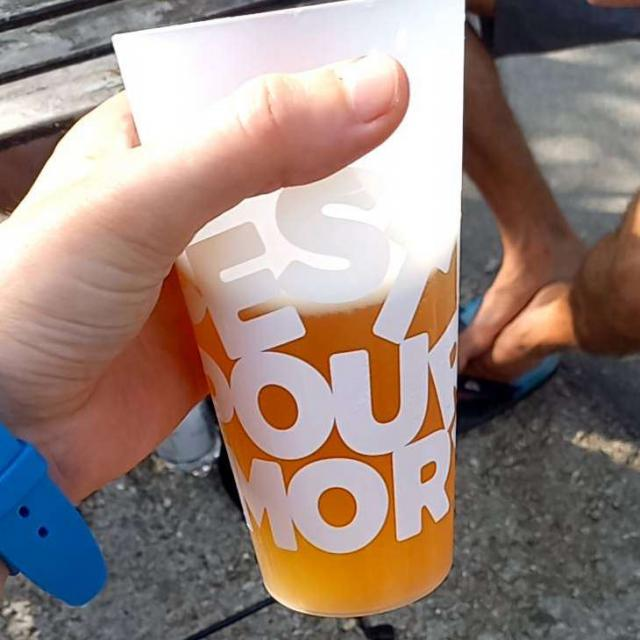beer: (188, 252, 454, 608)
